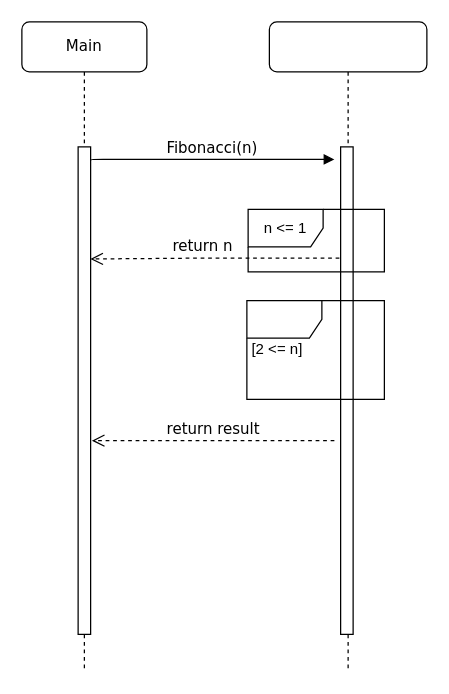
This 449x694 diagram has some shape labels left out. Each missing label, with the box of its shape:
Fibonacci: (268, 21, 427, 672)
loop: (246, 299, 384, 399)
